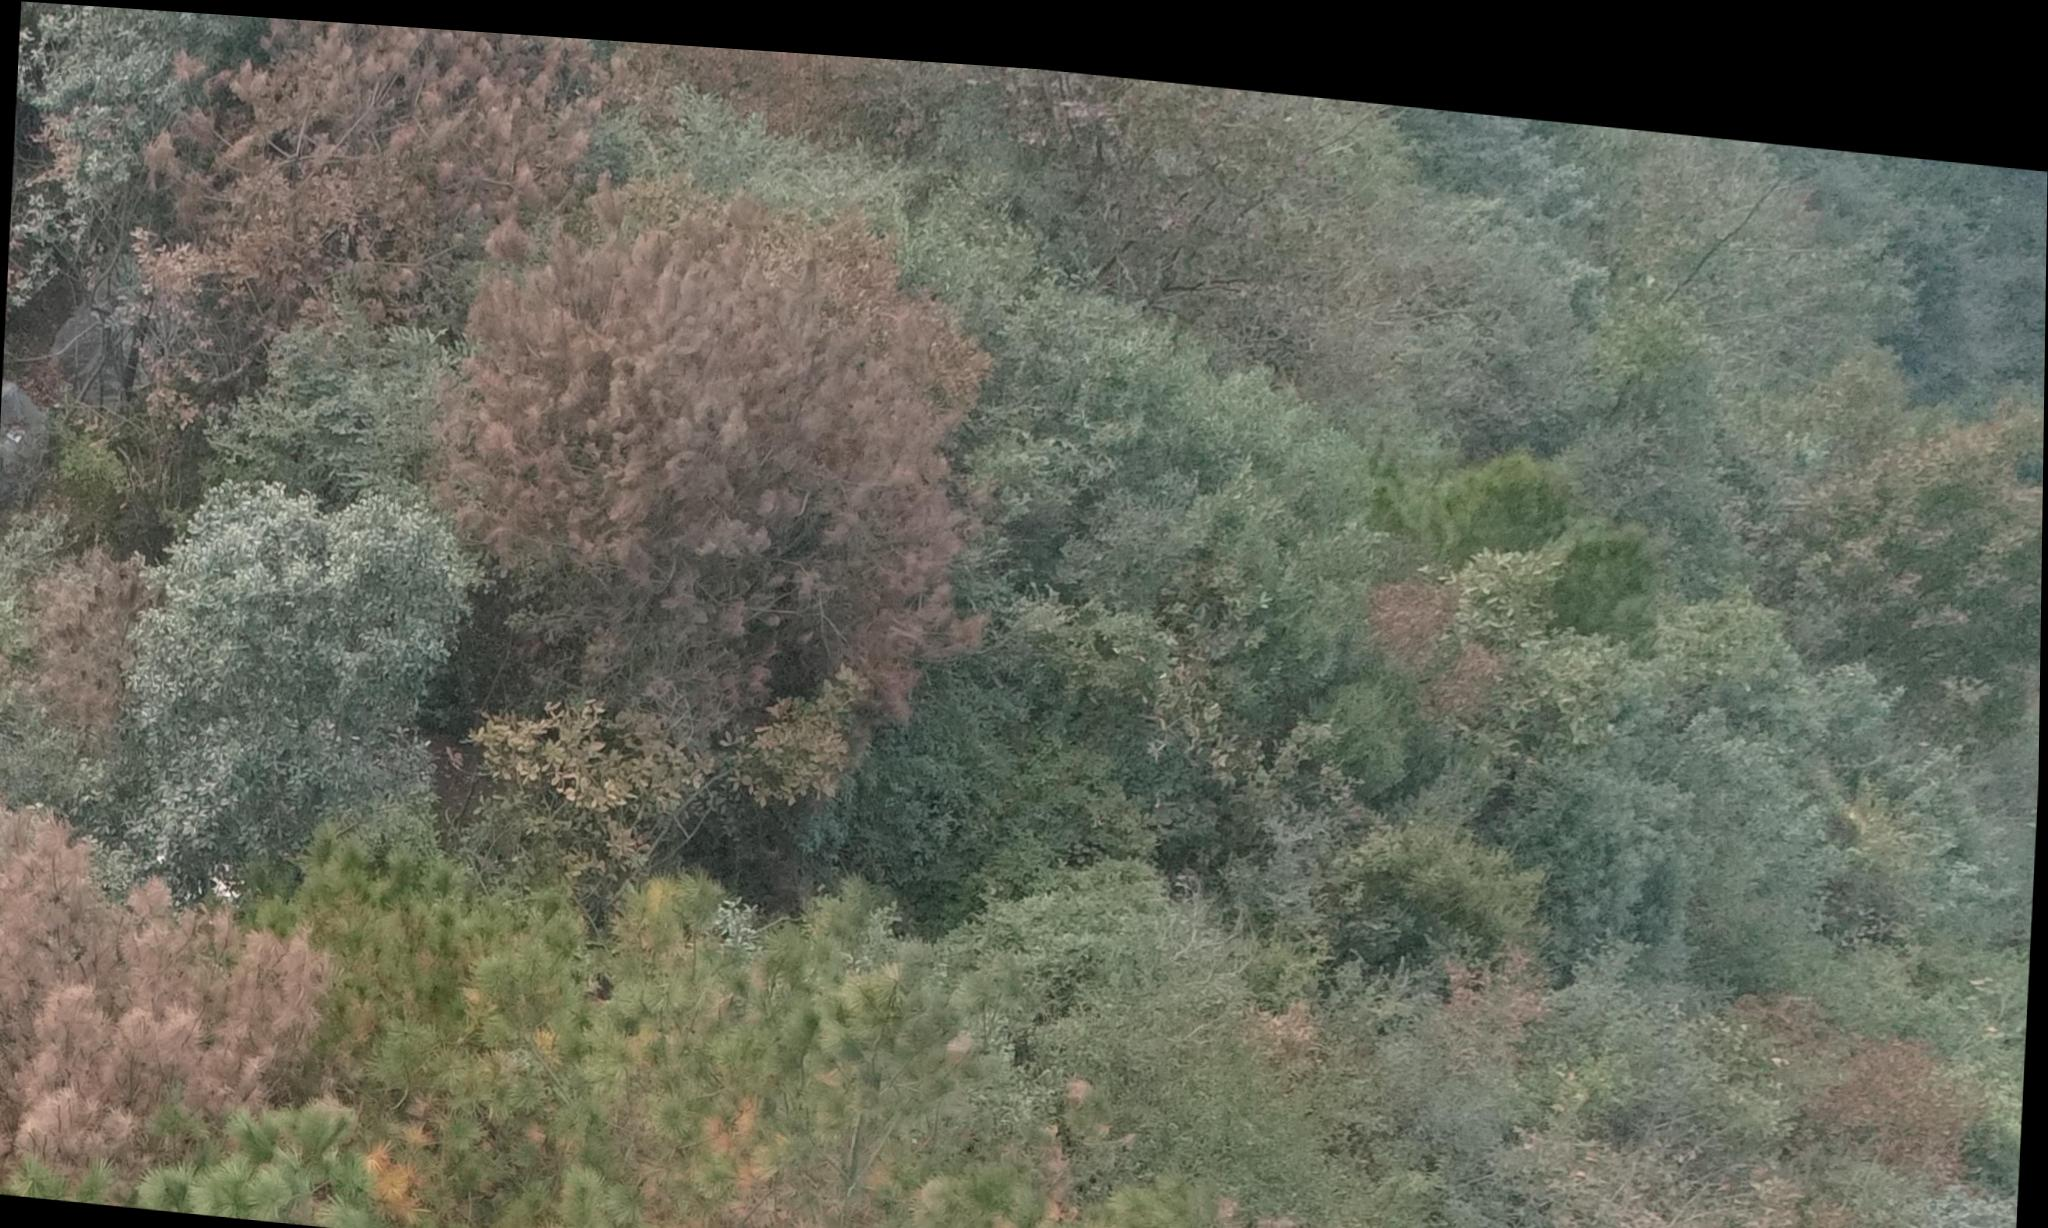heavy: (411, 178, 971, 731), (0, 776, 339, 1186), (158, 9, 604, 285)
